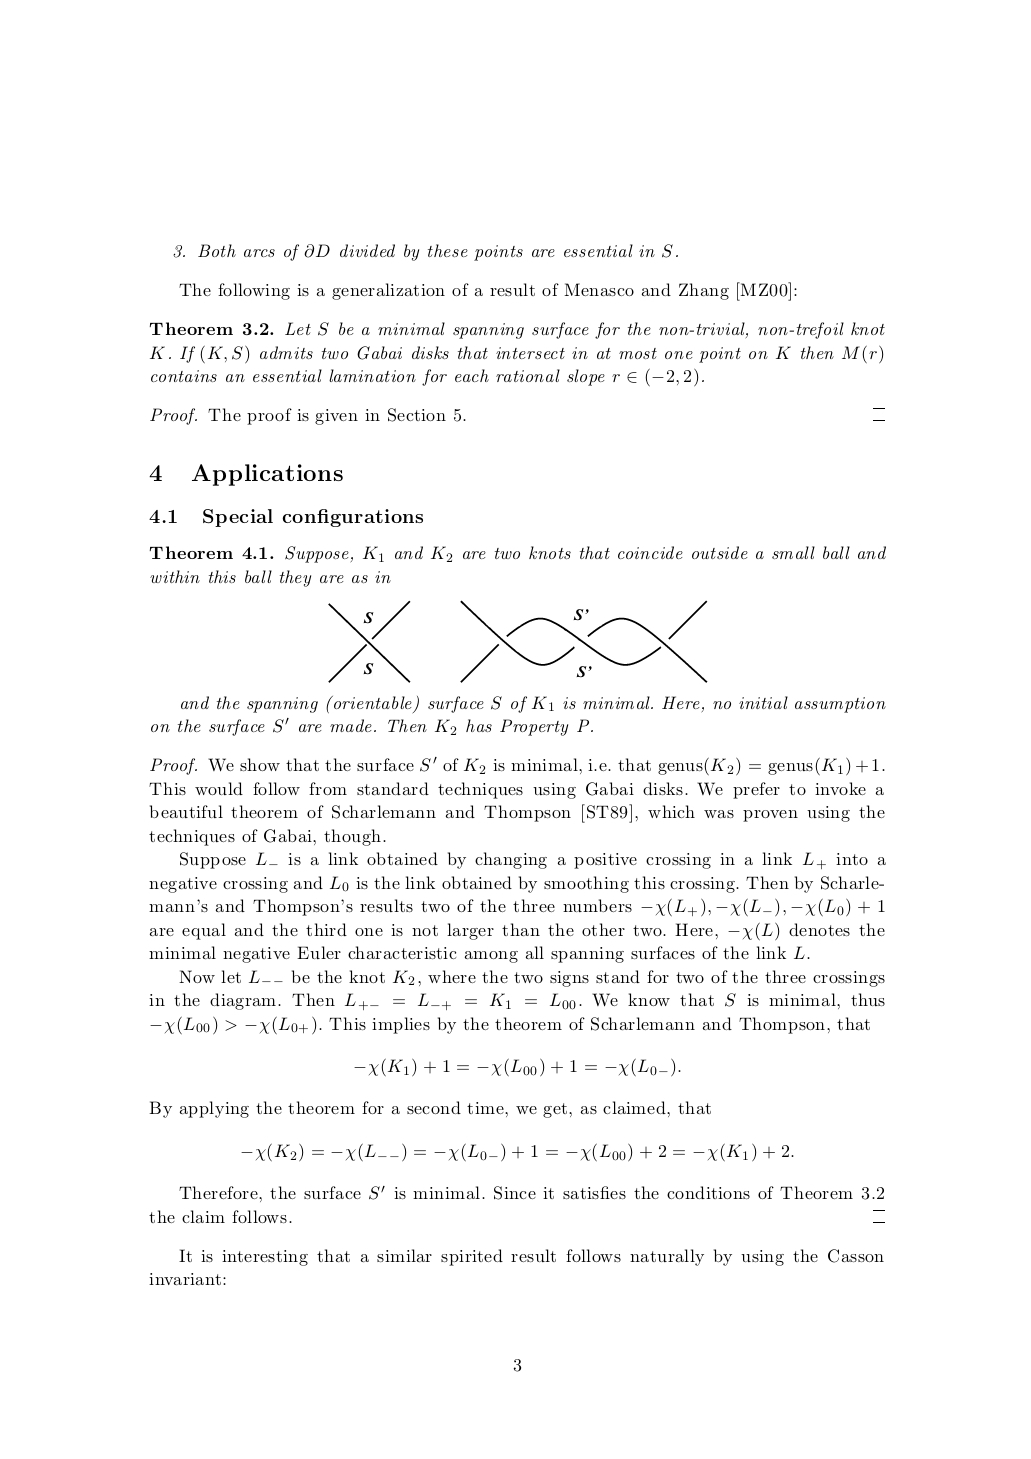figure: (328, 599, 707, 683)
formula: (241, 1142, 793, 1162), (354, 1057, 680, 1078)
